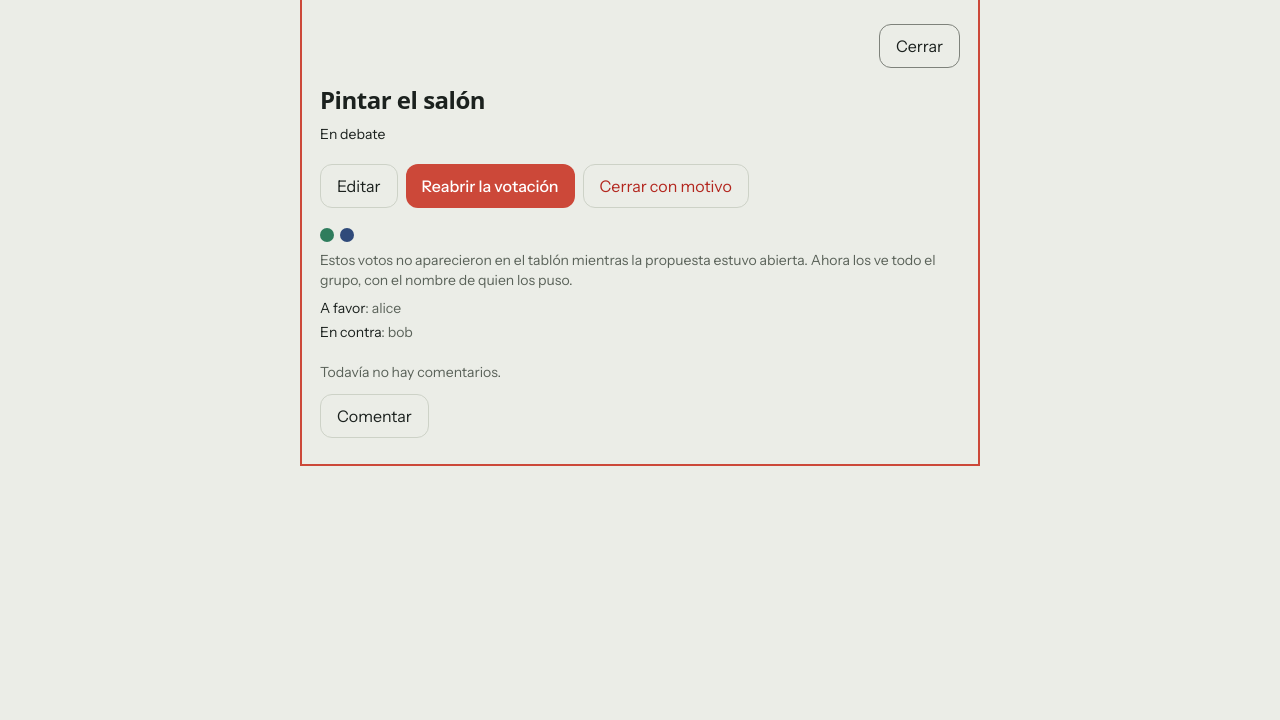
Test: BoardPage › reabrir se puede cancelar sin ejecutarse
Click the button "Reabrir la votación": (490, 186) [406, 164, 575, 208]
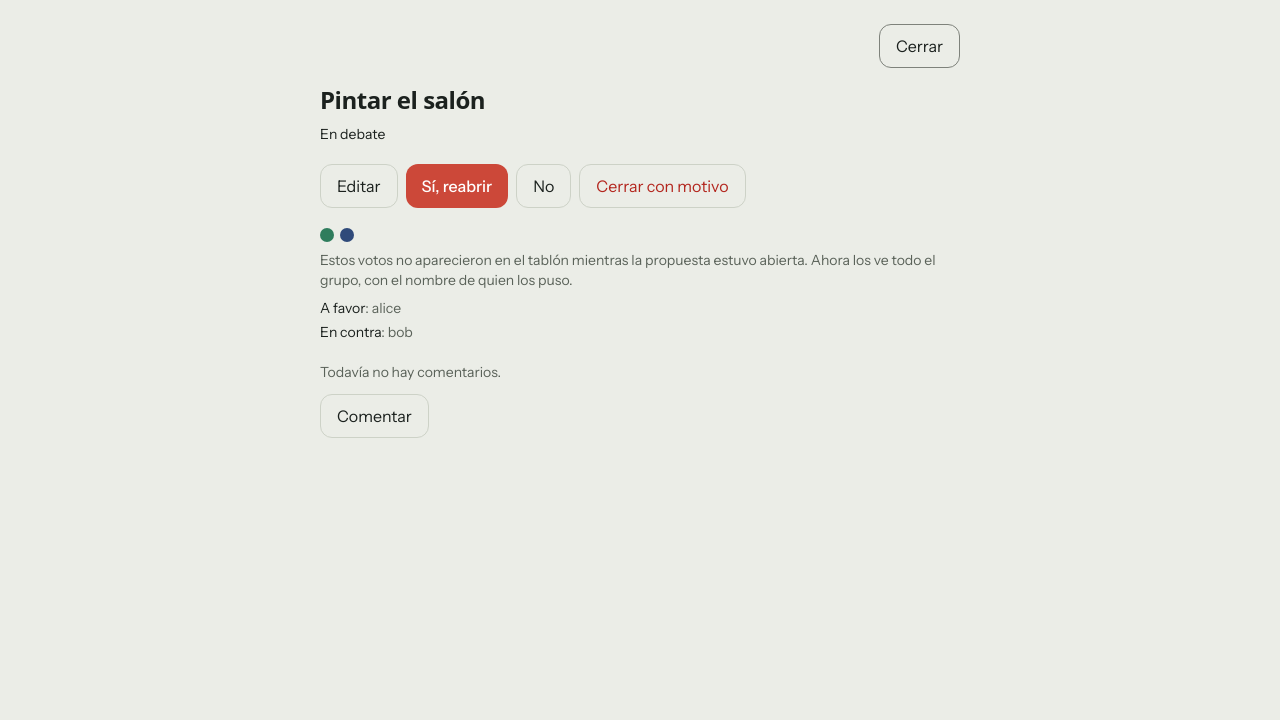
Click the button "No": (544, 186) [516, 164, 571, 208]
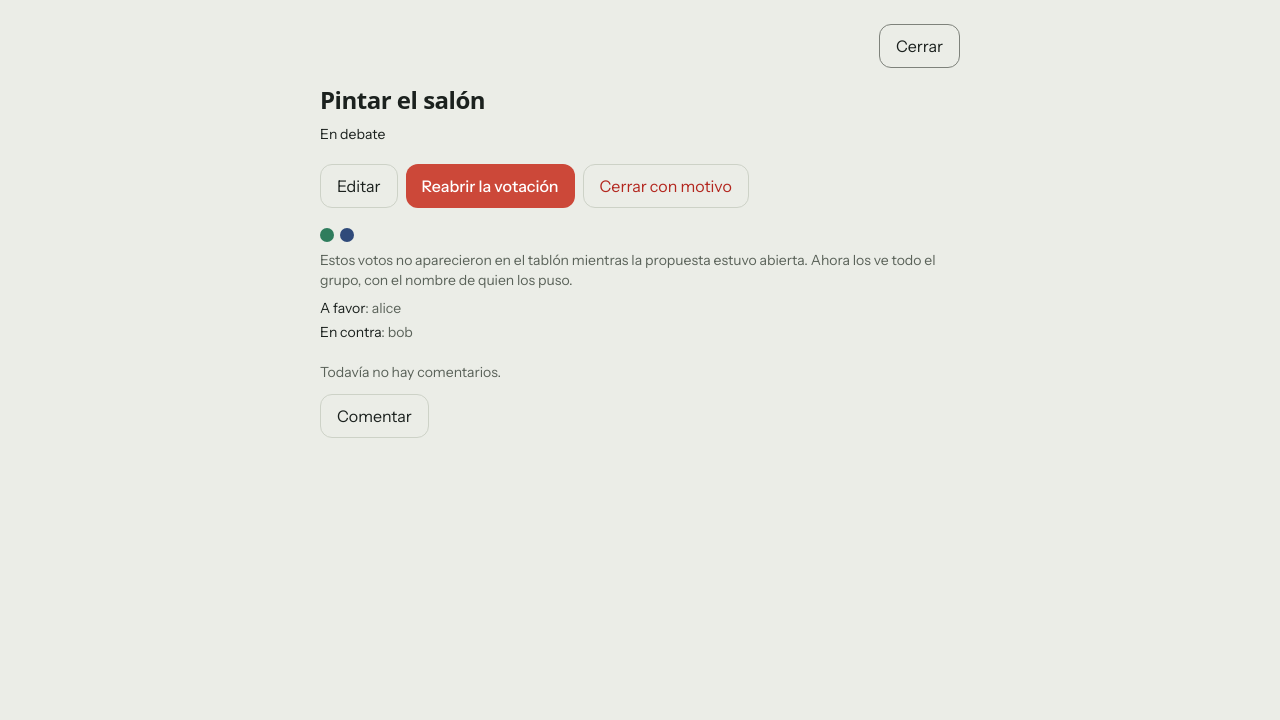
Now the button "Reabrir la votación" is shown, box [406, 164, 575, 208]
